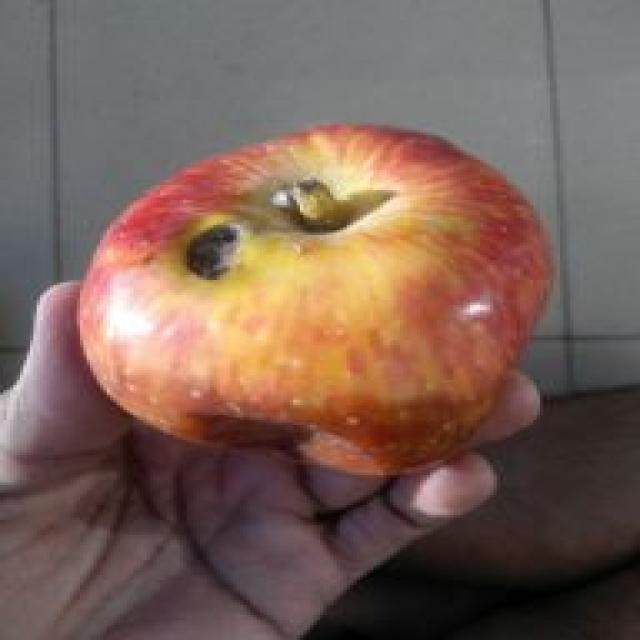Bad_Apple: (80, 125, 548, 474)
